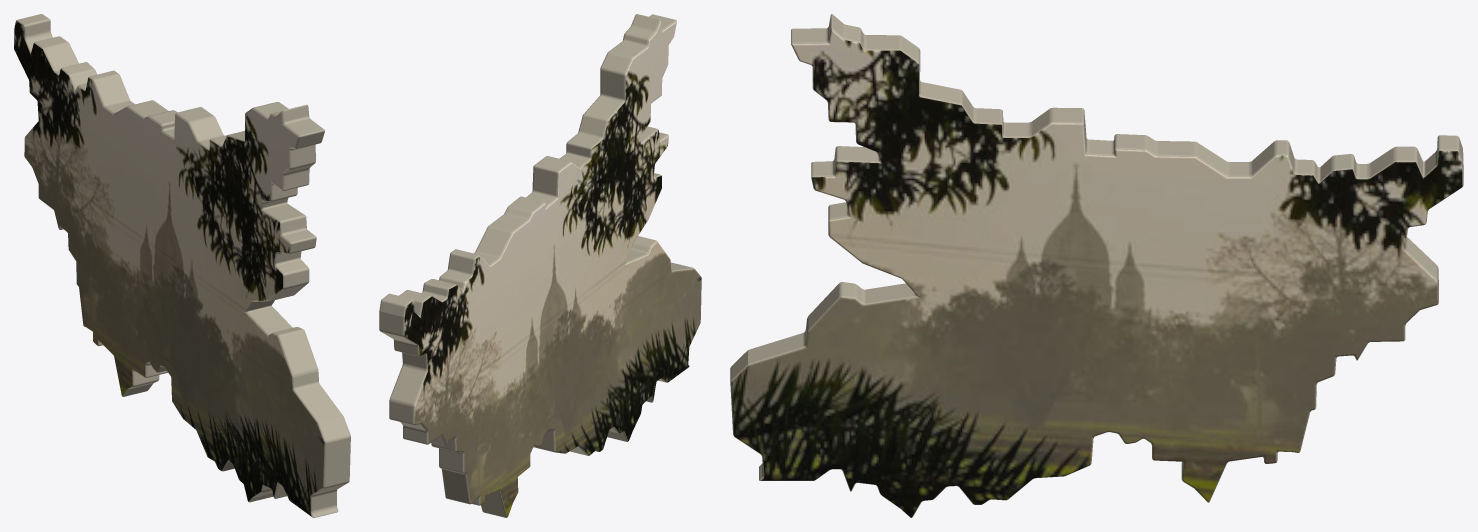
File: Bihar.glb
3 renders of one model, left to right at view 1: azimuth 30°, elevation 25°; view 2: azimuth 150°, elevation 25°; view 3: azimuth 270°, elevation 25°, orthographic. The views are drawn at different scales.
Visible parts, largest first — view 1: Object_28; view 2: Object_28; view 3: Object_28.
Boxes of the visible parts, left/top/right/bottom form: Object_28: left=14, top=14, right=350, bottom=517; Object_28: left=379, top=14, right=701, bottom=517; Object_28: left=730, top=14, right=1463, bottom=517.
Size of the model in its own units: 0.0362 by 0.5185 by 0.7028.
Materials: 1 (1 with a texture image).
